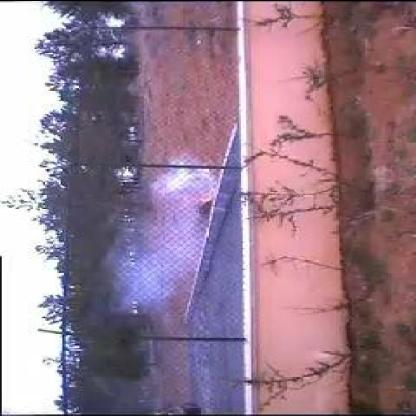-: (118, 166, 236, 348)
